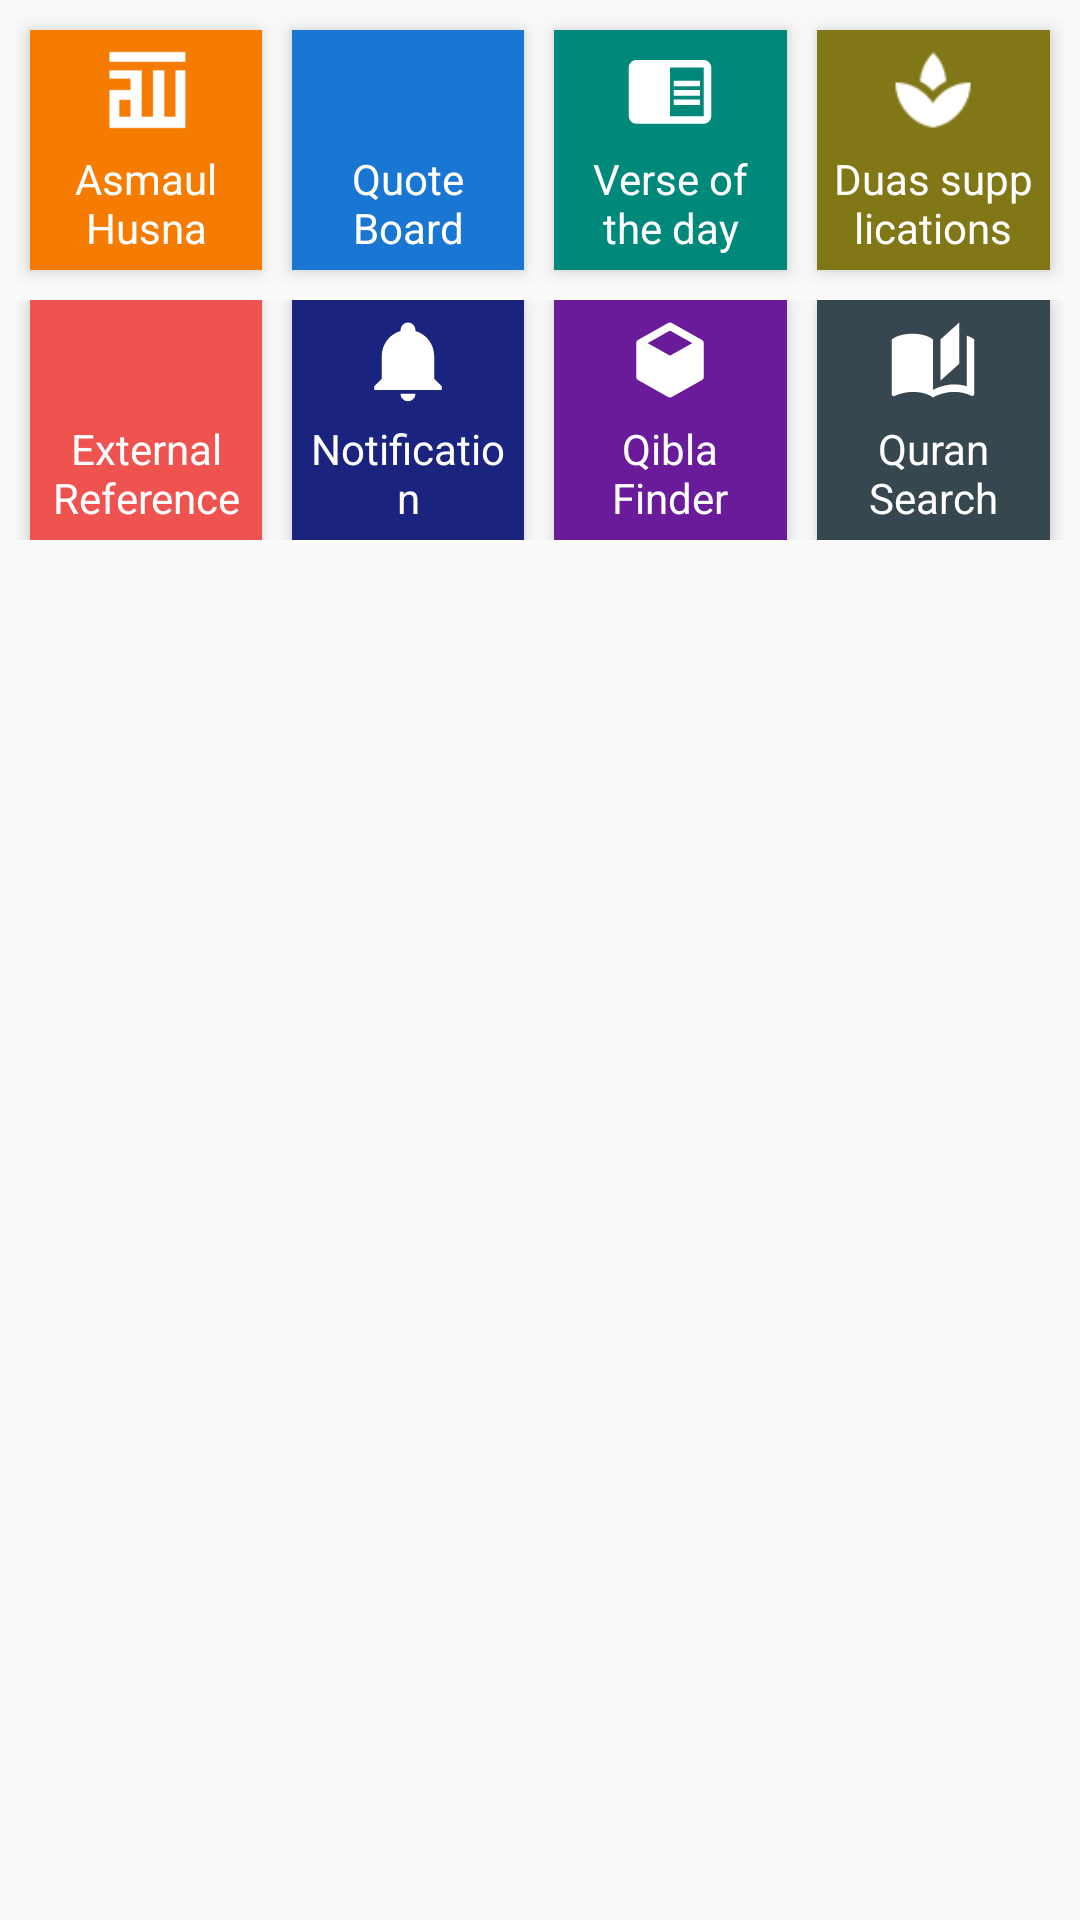

Where icons sit on this 1080*1920 app screen, as box=[x1, y1, x2, y2]:
allah: box=[109, 51, 186, 129]
cube: box=[636, 322, 704, 398]
